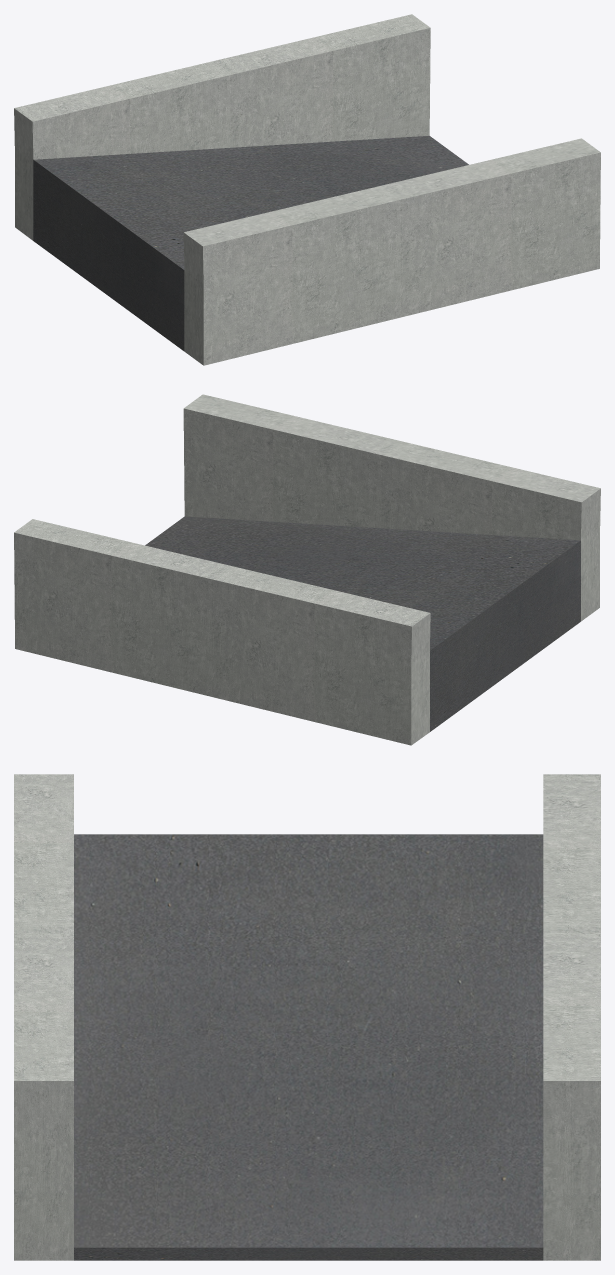
Rendered from Coastal Ramp.FBX.
3 renders of one model, top to bottom at view 1: azimuth 30°, elevation 25°; view 2: azimuth 150°, elevation 25°; view 3: azimuth 270°, elevation 25°, orthographic. The views are drawn at different scales.
Parts seen in each view (by area): view 1: Coastal Ramp; view 2: Coastal Ramp; view 3: Coastal Ramp.
Part boxes in pixels (x1,y1,x2,y2): Coastal Ramp: (14, 14, 600, 365); Coastal Ramp: (14, 394, 600, 745); Coastal Ramp: (14, 774, 600, 1260).
Bounding box in the file's own units: 108 × 30.85 × 88.34.
2 materials, 2 textured.
